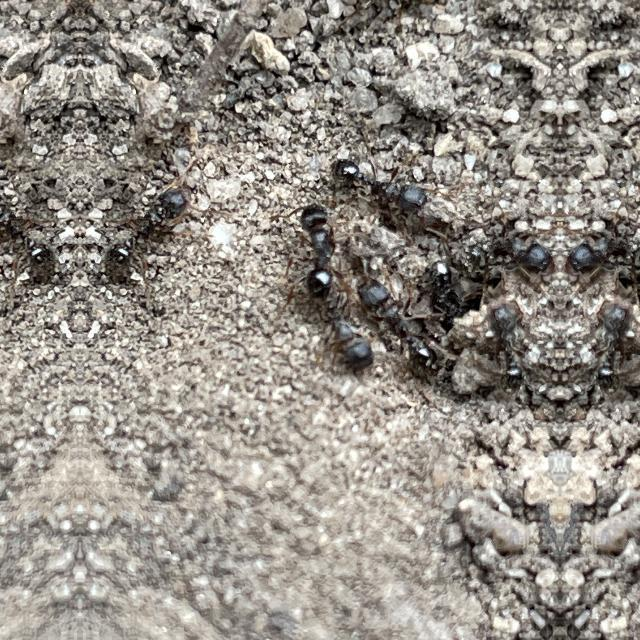Tetramorium: (88, 178, 224, 288), (352, 274, 448, 384), (300, 262, 382, 381), (488, 286, 556, 408), (564, 286, 632, 408), (0, 178, 72, 288), (320, 148, 432, 216), (458, 212, 554, 282), (286, 180, 344, 292), (566, 210, 640, 282)
